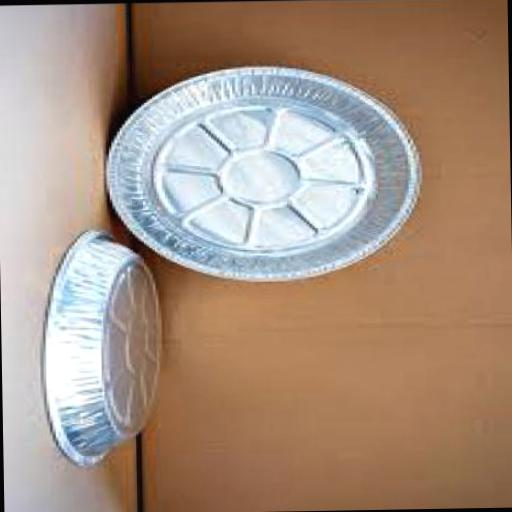metal: (105, 65, 424, 287), (40, 229, 166, 466)
